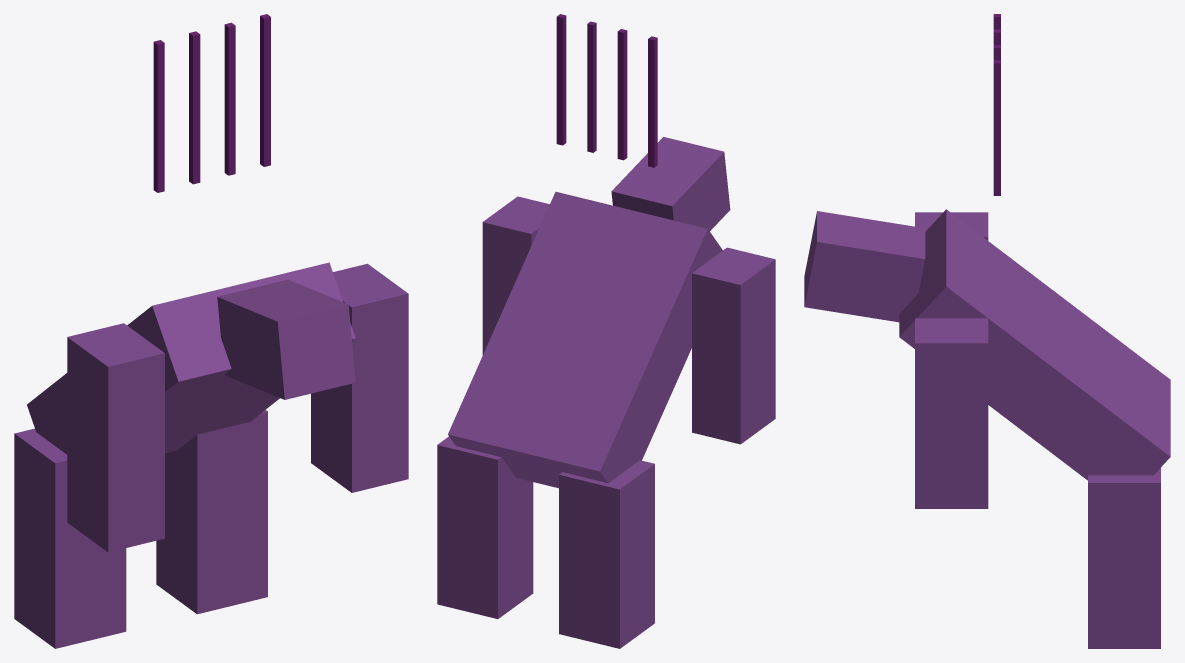
Rendered from Slump.fbx.
The picture shows the model from 3 angles, left to right: view 1: azimuth 30°, elevation 25°; view 2: azimuth 150°, elevation 25°; view 3: azimuth 270°, elevation 25°; orthographic projection. The views are drawn at different scales.
Parts seen in each view (by area): view 1: Cube.001, Cube.007, Cube.008, Cube.010, Cube.009; view 2: Cube.001, Cube.009, Cube.007, Cube.010, Cube.008; view 3: Cube.001, Cube.009.
Boxes of the visible parts, x1,y1,x2,y2 form: Cube.001: [14, 262, 408, 648]; Cube.007: [189, 31, 200, 184]; Cube.008: [224, 22, 235, 175]; Cube.010: [153, 40, 164, 192]; Cube.009: [260, 14, 270, 166]; Cube.001: [437, 137, 775, 648]; Cube.009: [556, 14, 566, 145]; Cube.007: [617, 29, 627, 160]; Cube.010: [648, 36, 657, 167]; Cube.008: [587, 21, 596, 152]; Cube.001: [804, 209, 1170, 648]; Cube.009: [993, 60, 1000, 195].
Size of the model in its own units: 84.73 by 170 by 100.
